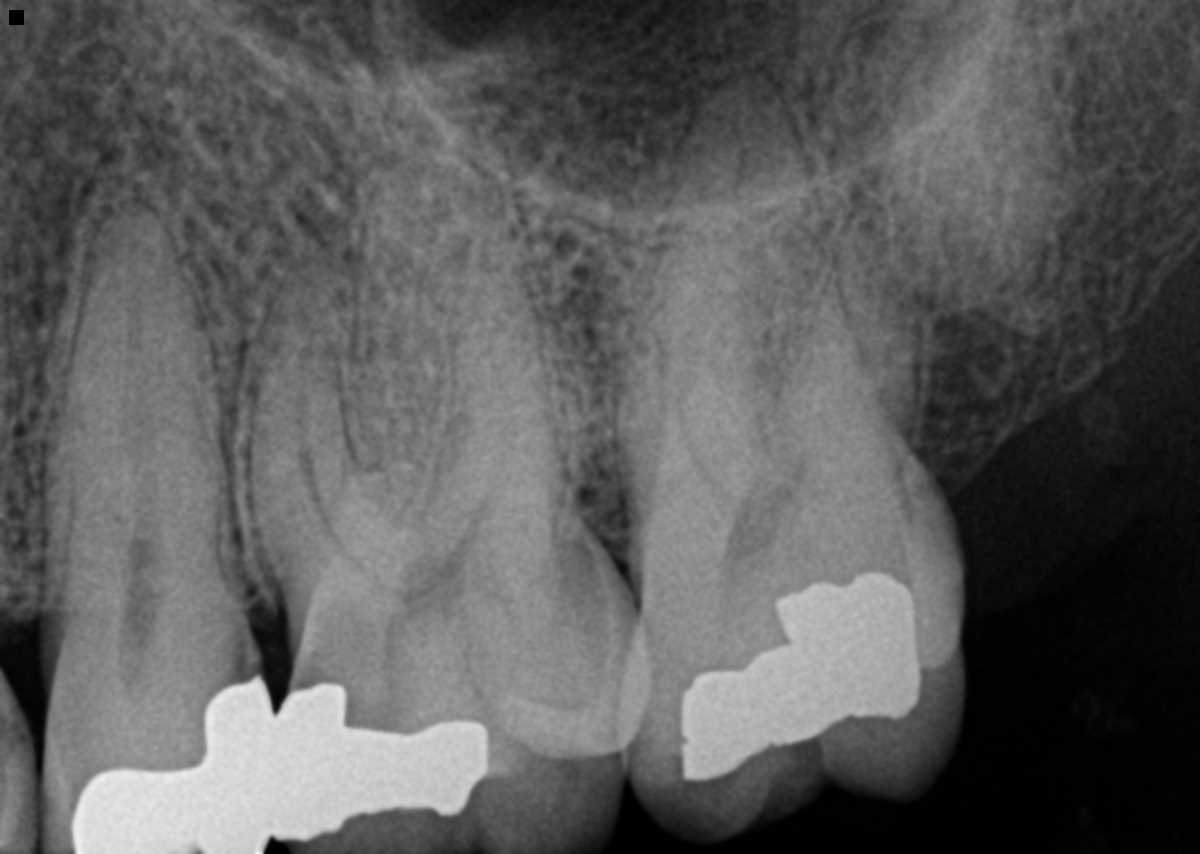Distal Canal: (457, 399, 517, 547)
Distal Root: (768, 181, 923, 483), (429, 252, 573, 533)
Main Canal: (122, 263, 171, 600), (682, 354, 723, 496)
Main Root: (38, 197, 237, 607)
Mesial Canal: (302, 326, 376, 588)
Mesial Root: (253, 257, 397, 600), (620, 240, 772, 541)
Palatal Root: (649, 63, 911, 521), (312, 143, 570, 596)
decay: (302, 603, 485, 729), (528, 545, 610, 678)
